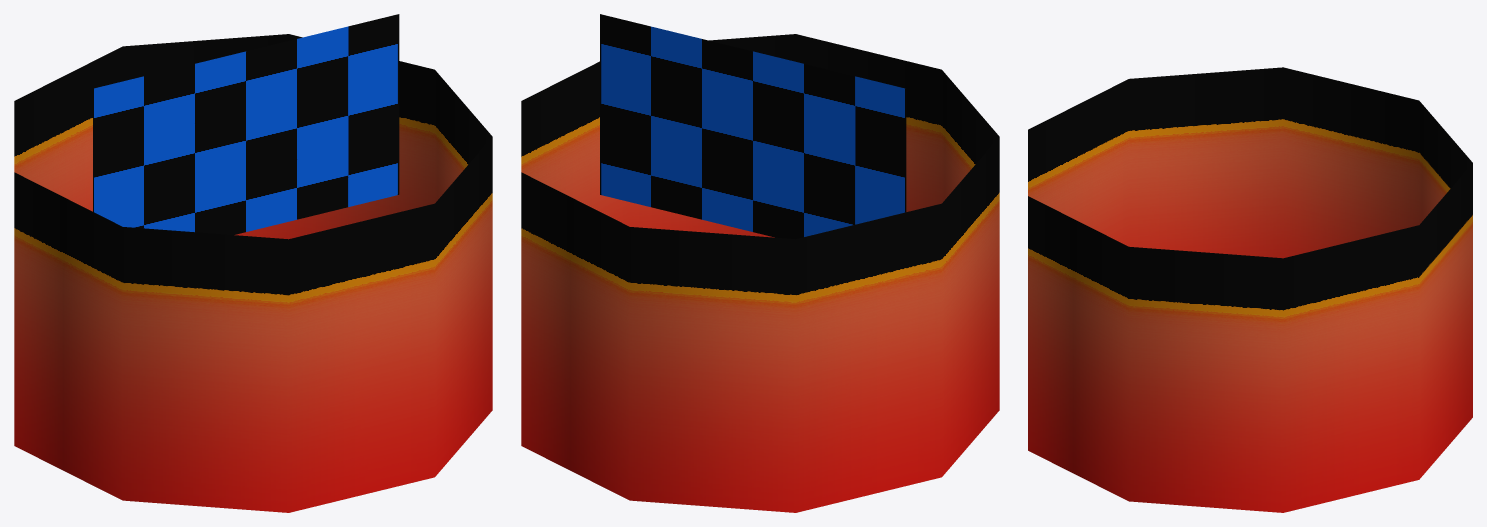
Rendered from FinishTrigger.fbx.
3 views of the same model, side by side, from view 1: azimuth 30°, elevation 25°; view 2: azimuth 150°, elevation 25°; view 3: azimuth 270°, elevation 25° (orthographic). The views are drawn at different scales.
Parts seen in each view (by area): view 1: Finish_Cylinder, Finish_Plank; view 2: Finish_Cylinder, Finish_Plank; view 3: Finish_Cylinder.
Boxes of the visible parts, x1,y1,x2,y2 form: Finish_Cylinder: [14, 34, 492, 512]; Finish_Plank: [93, 14, 399, 234]; Finish_Cylinder: [521, 34, 999, 512]; Finish_Plank: [600, 14, 906, 239]; Finish_Cylinder: [1028, 67, 1472, 512].
Size of the model in its own units: 730 by 596 by 719.
